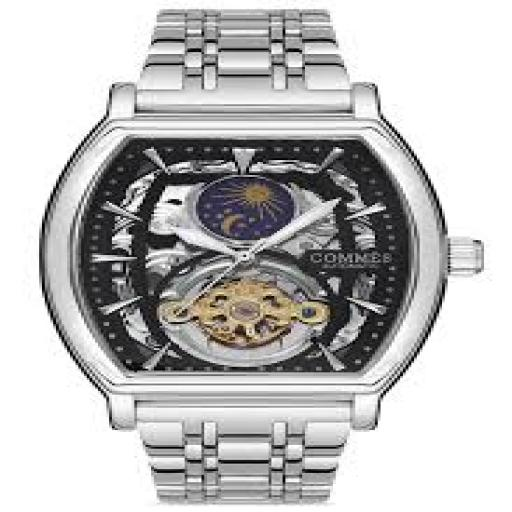KolSaati: (14, 3, 481, 495)
